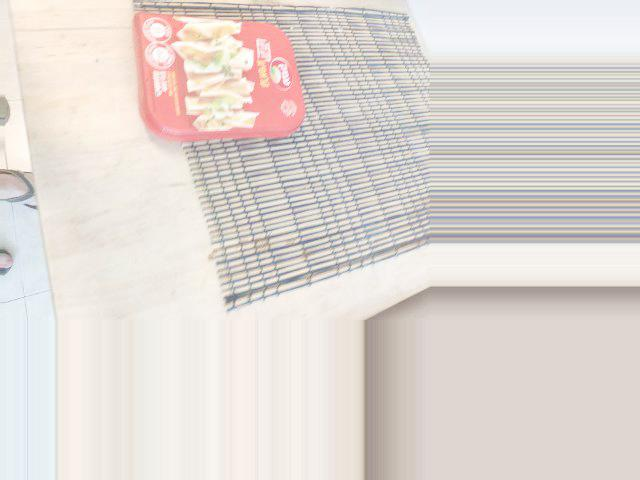cheese: (111, 132, 244, 306)
